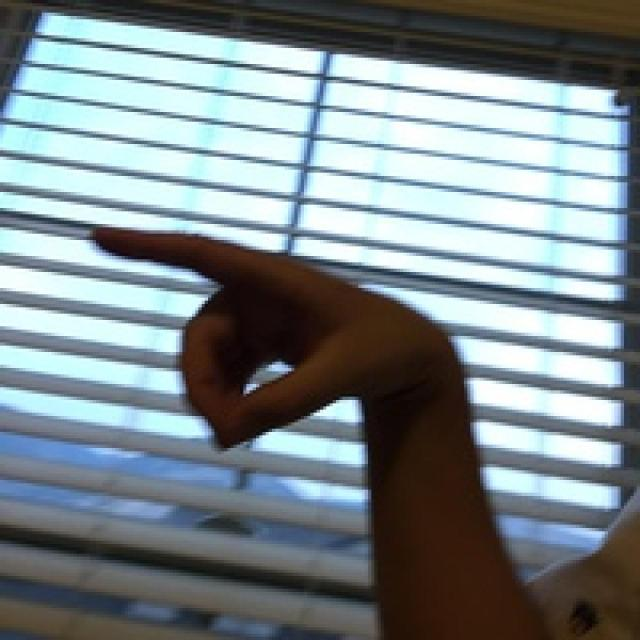P: (70, 159, 483, 480)
